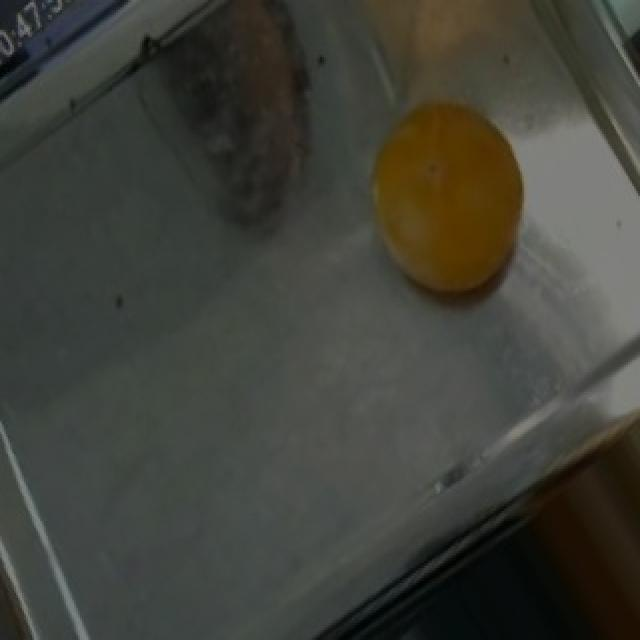Fruit: (342, 82, 556, 317)
